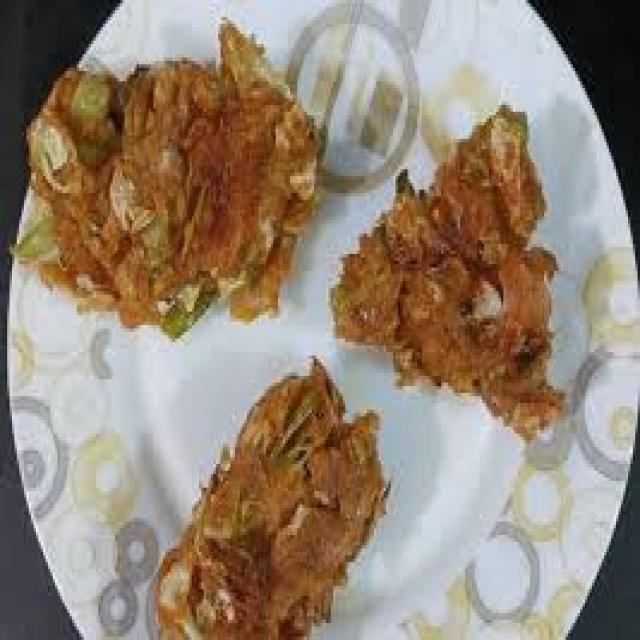BAJI: (42, 18, 293, 302), (338, 117, 548, 441), (150, 376, 371, 637)
